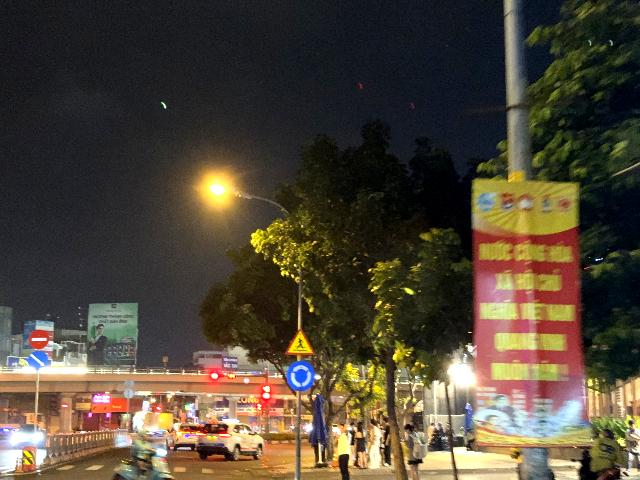cam-di-nguoc-chieu: (29, 329, 50, 350)
duong-nguoi-di-bo-cat-ngang: (285, 328, 316, 355)
huong-phai-di-vong-chuong-ngai-vat: (27, 350, 48, 370)
noi-giao-nhau-chay-theo-vong-xuyen: (286, 360, 315, 392)
